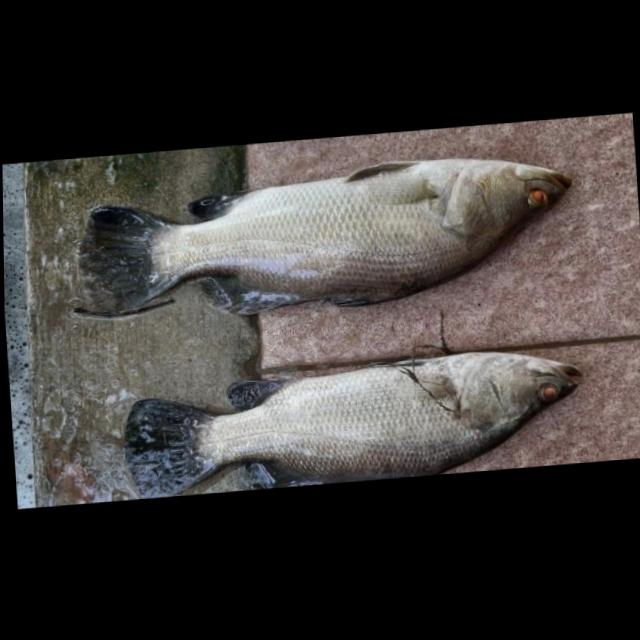Seabass: (71, 147, 577, 334), (123, 344, 589, 500)
